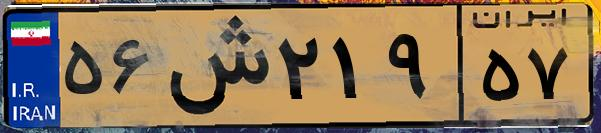1: (330, 28, 385, 110)
2: (270, 28, 330, 110)
5: (57, 26, 110, 100), (475, 38, 525, 113)
6: (110, 28, 158, 98)
7: (525, 38, 570, 115)
9: (385, 28, 445, 110)
ش: (158, 12, 270, 120)
